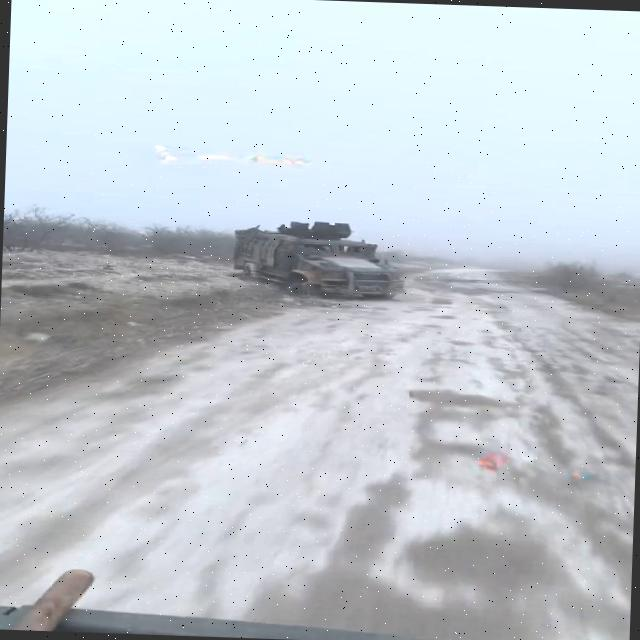Vehicle: (225, 216, 404, 300)
